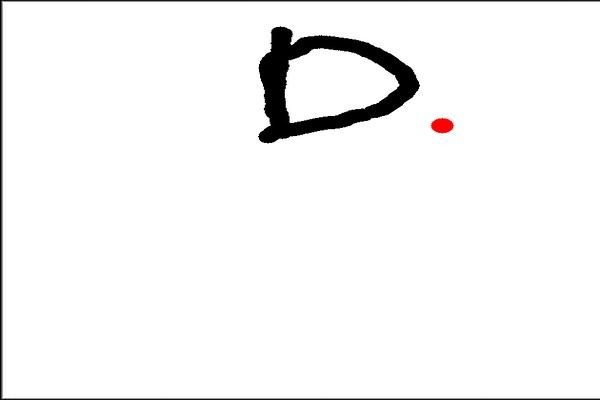D: (251, 20, 423, 148)
